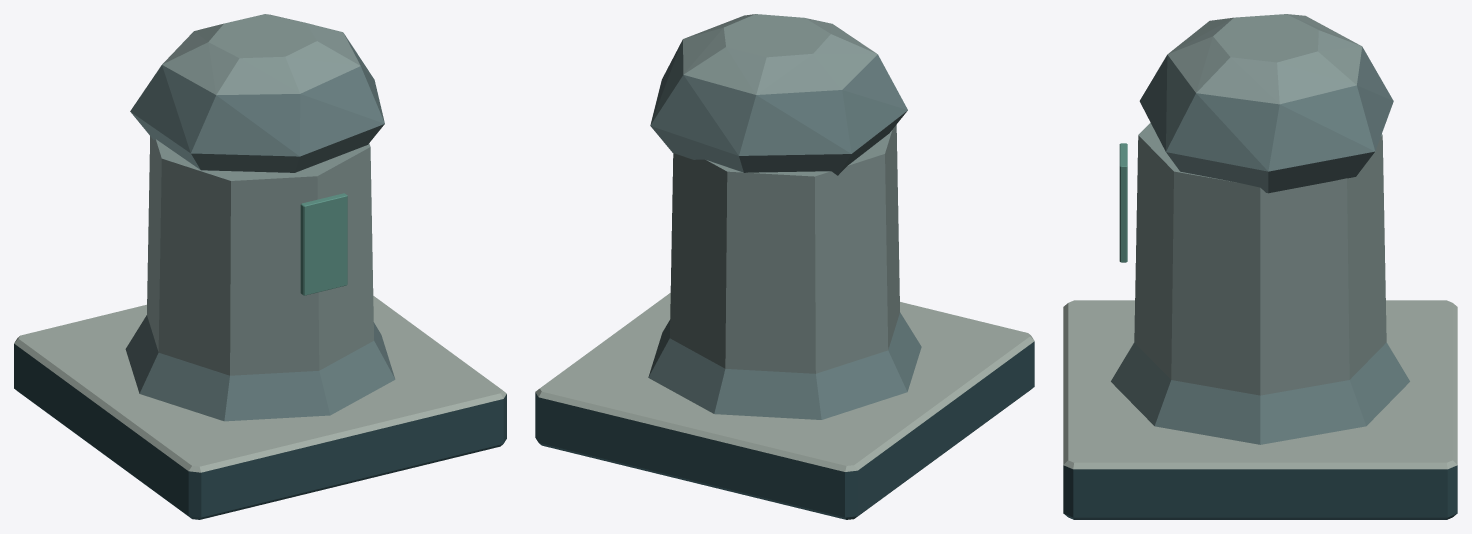
Rendered from pillar-broken.glb.
3 renders of one model, left to right at view 1: azimuth 30°, elevation 25°; view 2: azimuth 150°, elevation 25°; view 3: azimuth 270°, elevation 25°, orthographic. The views are drawn at different scales.
Parts seen in each view (by area): view 1: pillar-broken__body; view 2: pillar-broken__body; view 3: pillar-broken__body.
Part boxes in pixels (box(x1,y1,x2,y2)): pillar-broken__body: box(14, 14, 506, 519); pillar-broken__body: box(535, 14, 1034, 519); pillar-broken__body: box(1063, 14, 1457, 519).
Size of the model in its own units: 1 by 1.13 by 1.
